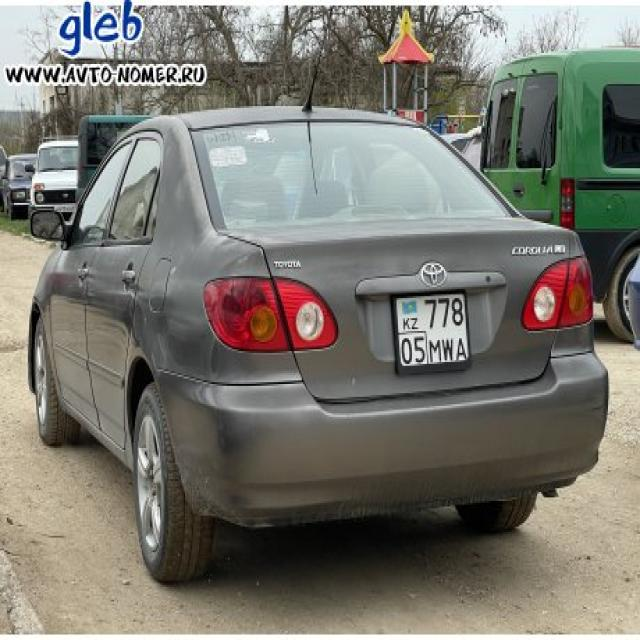license: (392, 284, 474, 379)
